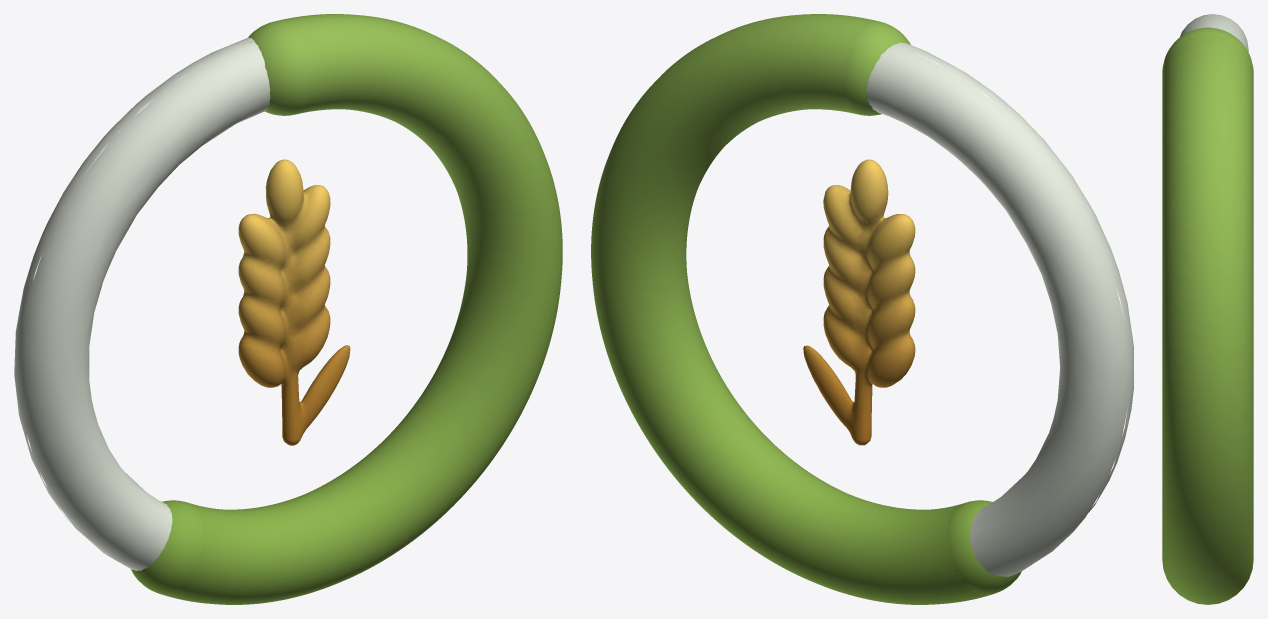
Rendered from carbs.glb.
3 views of the same model, side by side, from view 1: azimuth 30°, elevation 25°; view 2: azimuth 150°, elevation 25°; view 3: azimuth 270°, elevation 25° (orthographic). The views are drawn at different scales.
Parts seen in each view (by area): view 1: carbs-arc, carbs-track, wheat, carbs-start, carbs-end; view 2: carbs-arc, carbs-track, wheat, carbs-start, carbs-end; view 3: carbs-arc, carbs-track, carbs-start.
Boxes of the visible parts, x1,y1,x2,y2 form: carbs-arc: [159, 14, 562, 604]; carbs-track: [14, 37, 270, 570]; wheat: [238, 159, 350, 445]; carbs-start: [248, 20, 310, 115]; carbs-end: [131, 500, 206, 595]; carbs-arc: [591, 14, 991, 604]; carbs-track: [866, 42, 1133, 576]; wheat: [803, 159, 915, 445]; carbs-start: [843, 20, 913, 115]; carbs-end: [947, 500, 1021, 595]; carbs-arc: [1162, 32, 1253, 604]; carbs-track: [1180, 14, 1248, 51]; carbs-start: [1162, 27, 1253, 71].
Size of the model in its own units: 1.81 by 1.84 by 0.28.
